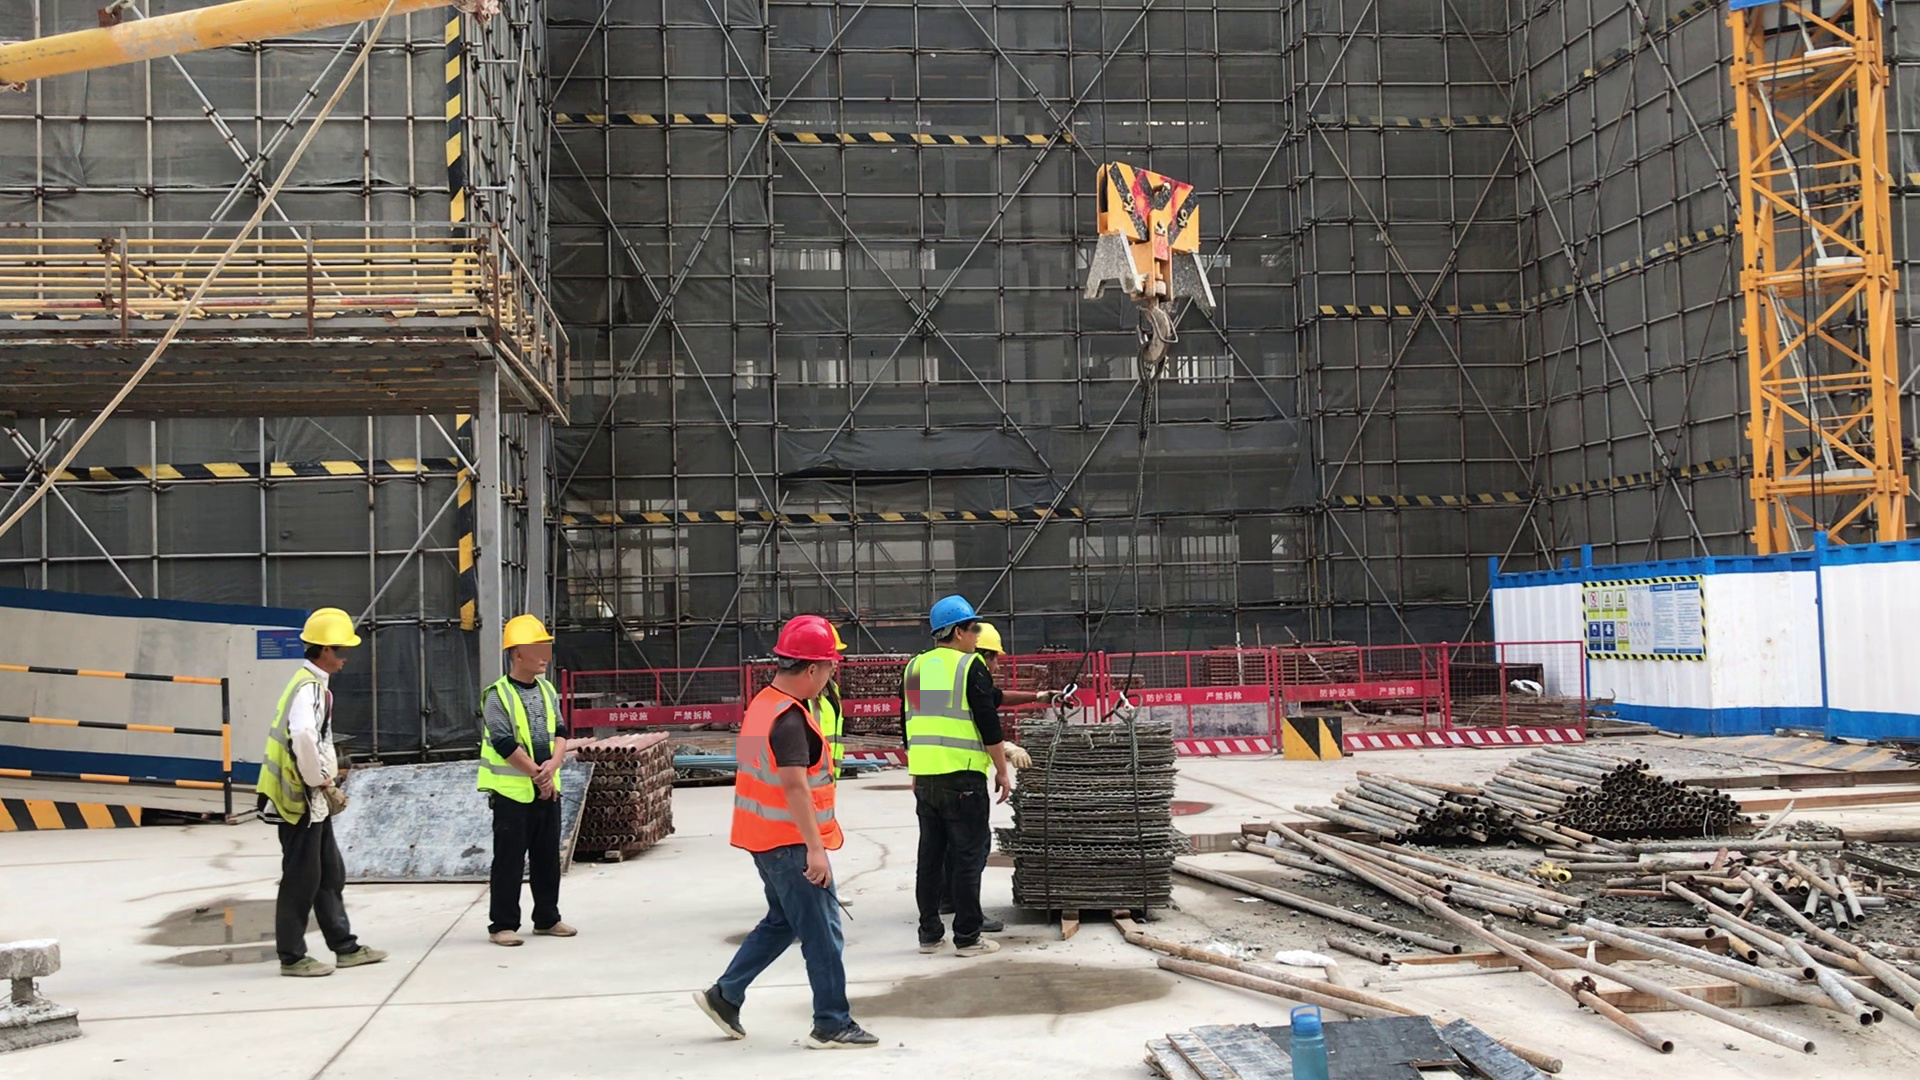fence: (6, 661, 240, 802), (1358, 641, 1585, 752), (1163, 645, 1274, 764), (592, 660, 741, 730)
helmet: (772, 617, 844, 667), (295, 607, 364, 651), (497, 615, 557, 651), (928, 595, 980, 635), (979, 622, 1007, 656)
hook: (1080, 161, 1217, 357)
person: (686, 612, 857, 1027), (257, 607, 395, 977), (897, 592, 1017, 958), (477, 614, 580, 949)
scaffold: (1514, 728, 1765, 842), (1292, 761, 1511, 841), (584, 722, 674, 864)
slogan: (1585, 576, 1704, 661)
vest: (726, 685, 846, 859), (256, 667, 335, 831), (903, 647, 993, 779), (481, 674, 564, 805)
